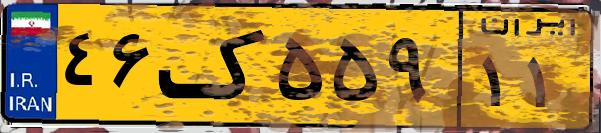1: (475, 38, 525, 113), (525, 38, 570, 115)
4: (57, 26, 110, 100)
5: (270, 28, 330, 110), (330, 28, 385, 110)
6: (110, 28, 158, 98)
9: (385, 28, 445, 110)
ک: (158, 12, 270, 120)
